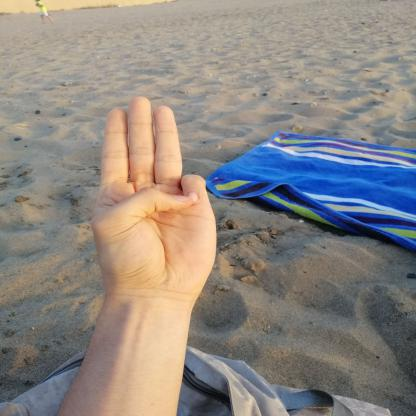THA: (79, 84, 234, 314)
